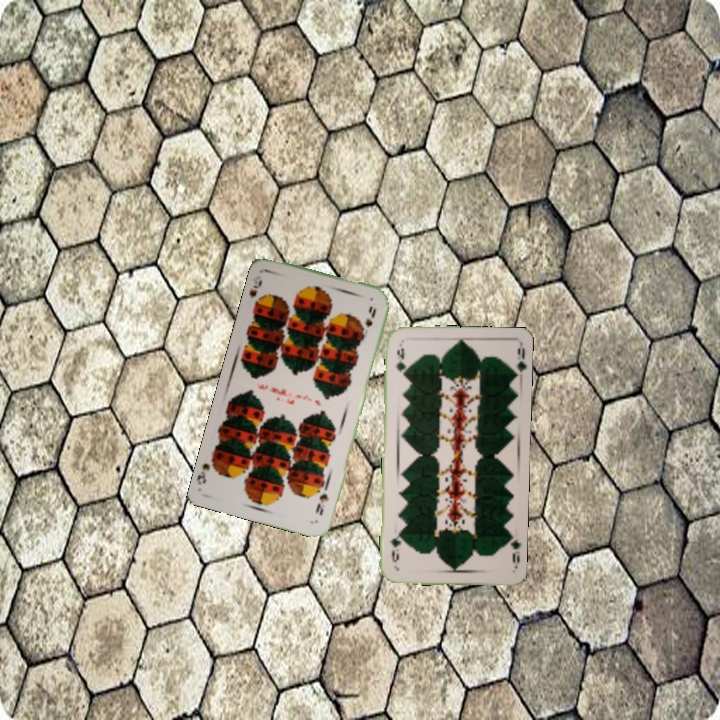G9: (503, 531, 523, 565), (392, 340, 407, 378)
S9: (245, 271, 265, 309), (312, 482, 332, 518)
